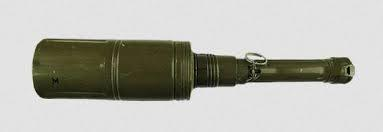RKG 3: (31, 39, 355, 100)
